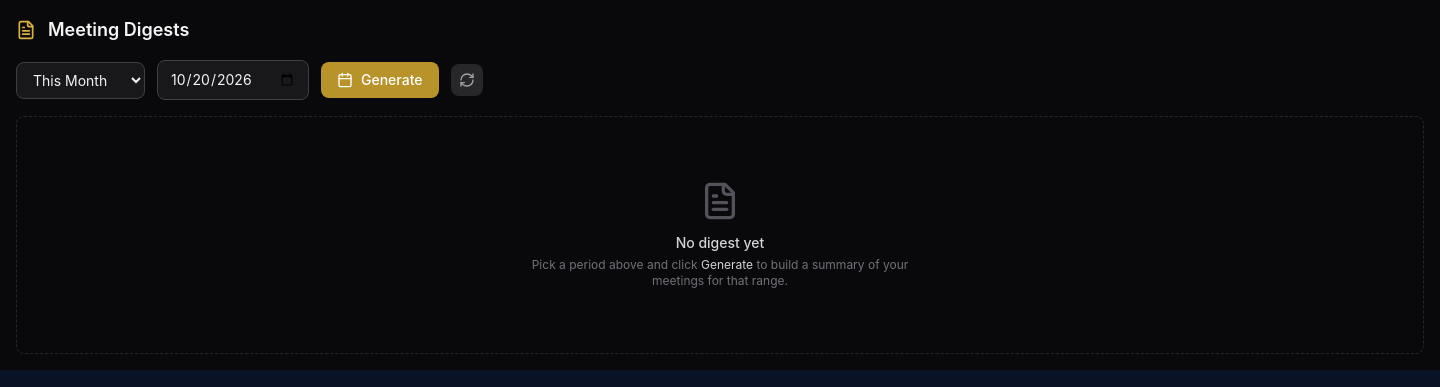
Digests › renders the cached digest content immediately on a re-fetch
Check: the heading "Meeting Digests" is shown, box x1=48 y1=16 x2=189 y2=44
Click the button "Generate" at (380, 80), box x1=321 y1=62 x2=438 y2=98
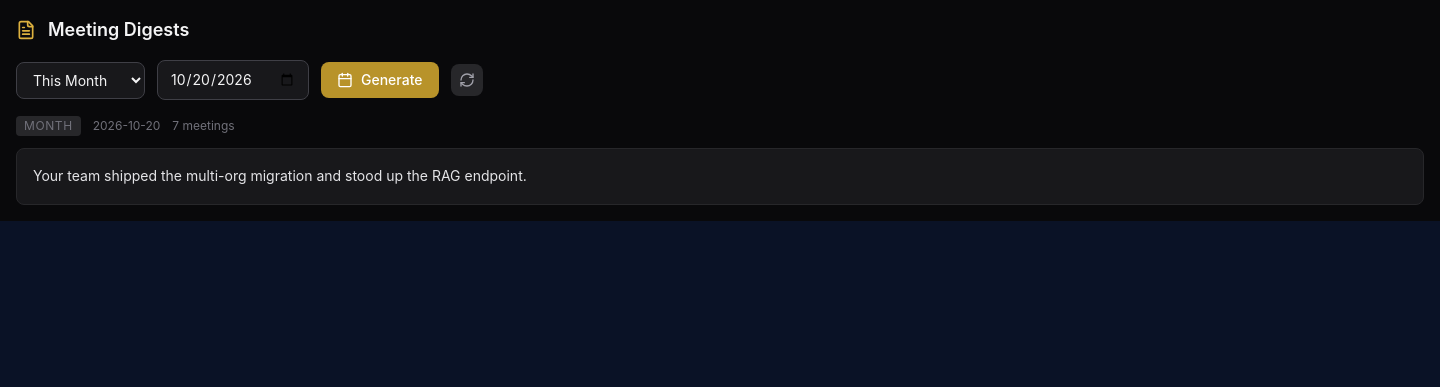
Check: the text "Your team shipped the multi-org migration" is shown, box x1=33 y1=167 x2=527 y2=184
Click the button "Generate" at (380, 80), box x1=321 y1=62 x2=438 y2=98
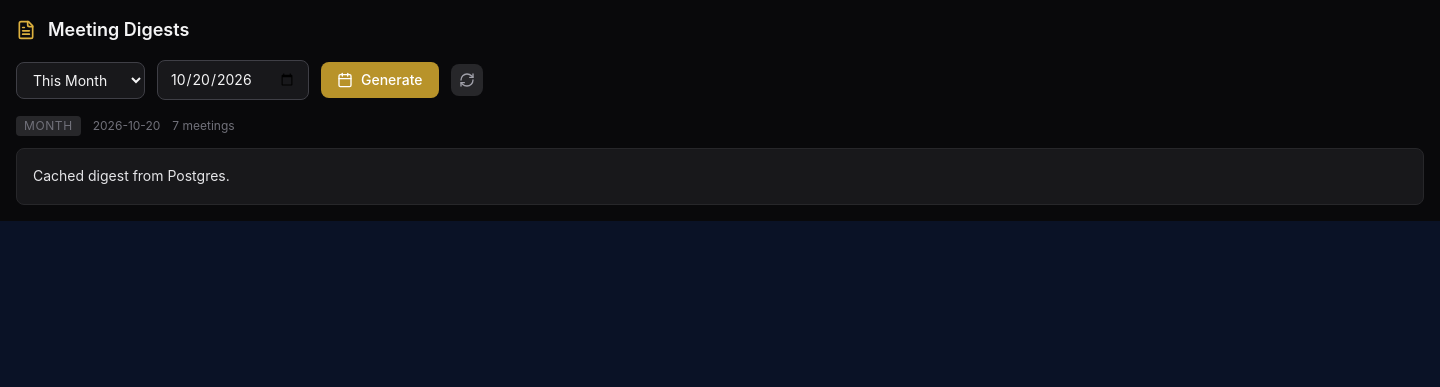
Check: the text "Cached digest from Postgres." is shown, box x1=33 y1=167 x2=230 y2=184
